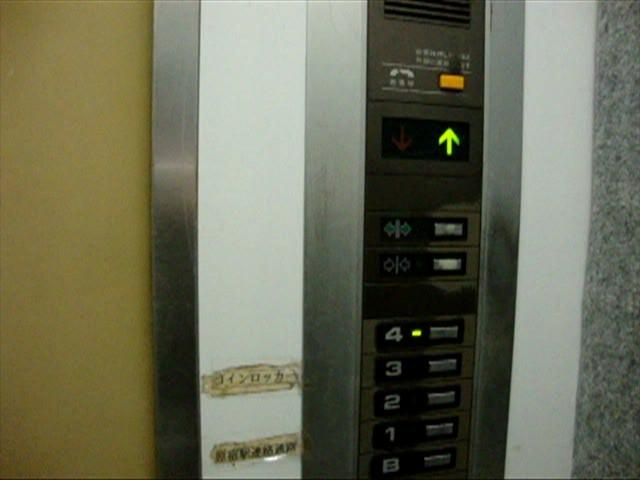1: (369, 412, 461, 451)
2: (371, 382, 461, 417)
3: (372, 350, 465, 384)
4: (372, 314, 466, 349)
B: (368, 445, 459, 479)
call: (377, 60, 470, 99)
close: (374, 248, 468, 277)
led: (379, 114, 471, 162)
open: (374, 213, 469, 244)
